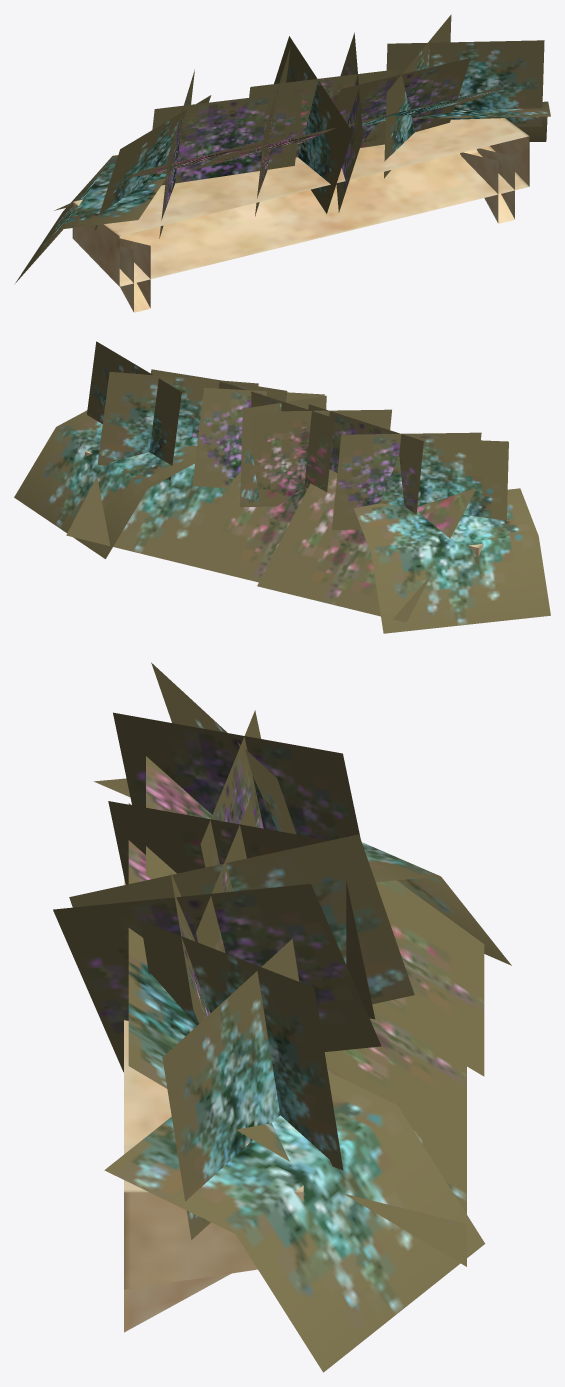
Rendered from thm_tato_imprv_planter_window_s01_l1.fbx.
The picture shows the model from 3 angles, top to bottom: view 1: azimuth 30°, elevation 25°; view 2: azimuth 150°, elevation 25°; view 3: azimuth 270°, elevation 25°; orthographic projection. The views are drawn at different scales.
Visible parts, largest first — view 1: mesh_node; view 2: mesh_node; view 3: mesh_node.
Part boxes in pixels (x1,y1,x2,y2): mesh_node: (14, 14, 550, 312); mesh_node: (14, 341, 550, 633); mesh_node: (53, 662, 511, 1372).
Size of the model in its own units: 4 by 1.25 by 1.52.
